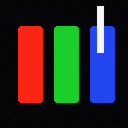4 line_v: (97, 6, 103, 52)
